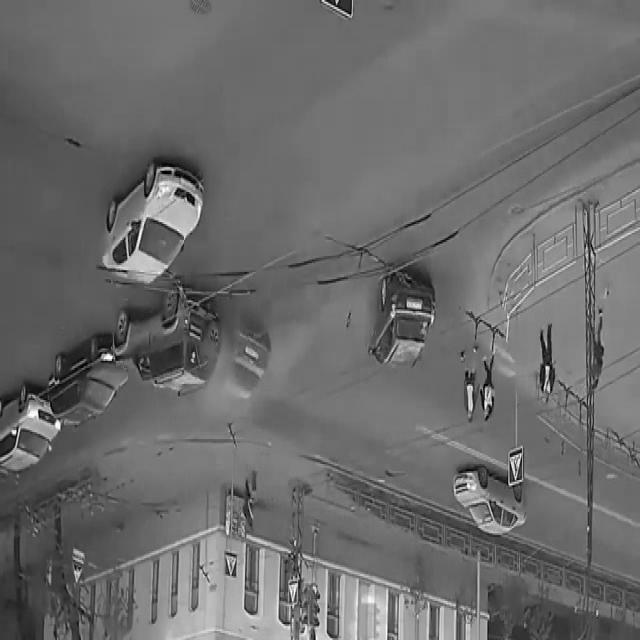moderate: (108, 276, 274, 424)
